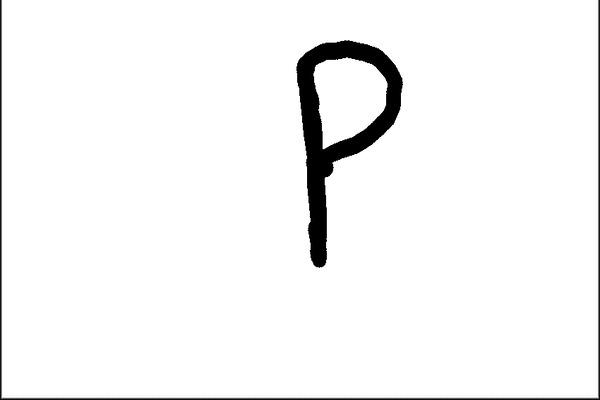P: (272, 31, 427, 277)
